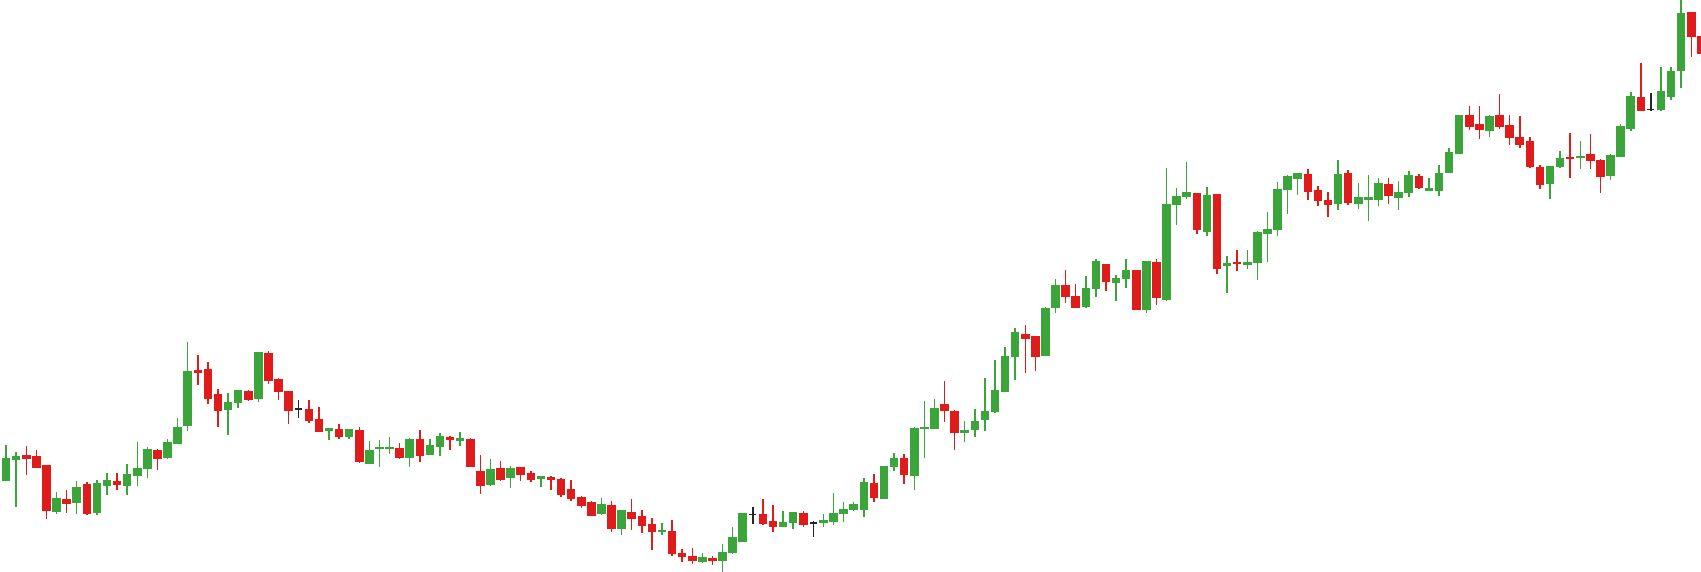sell: (202, 349, 272, 403)
